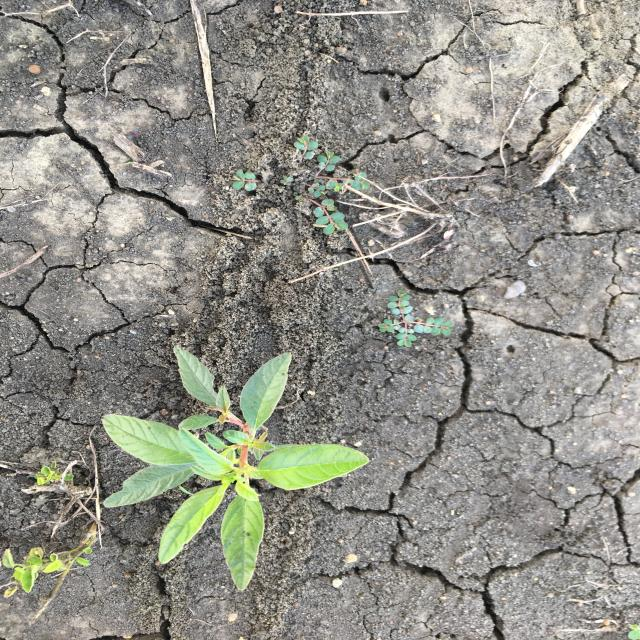SpottedSpurge: (226, 131, 373, 240), (375, 288, 459, 350)
Waterhemp: (99, 342, 372, 594)
